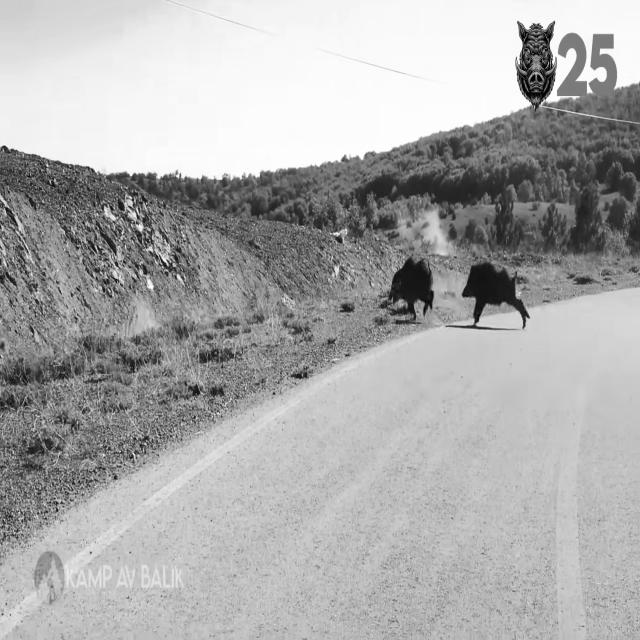boar: (462, 261, 529, 328), (516, 19, 558, 110), (389, 257, 433, 319)
